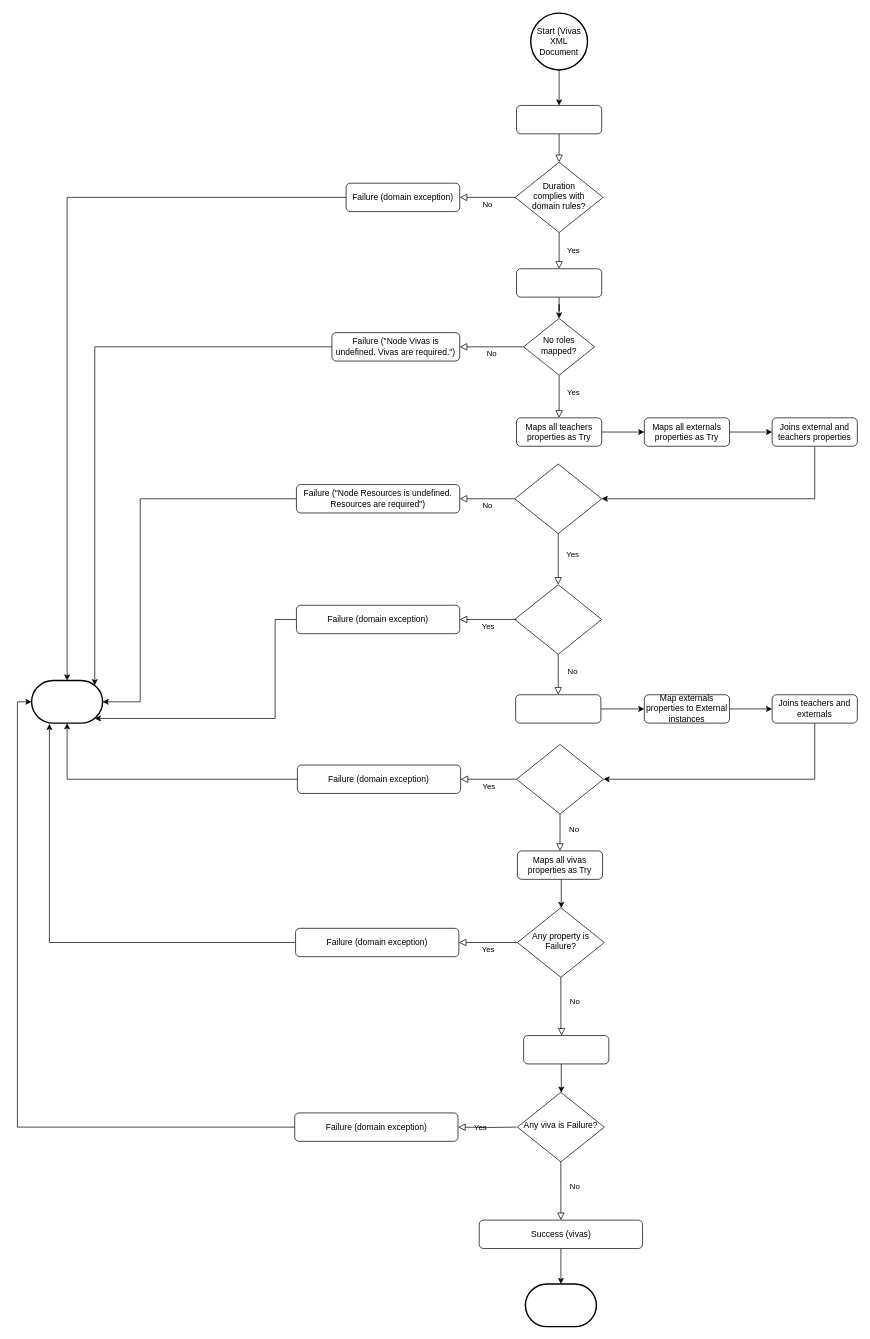
Some shapes in this 870 by 1339 pixel diagram are drawn without their labels. Here are the shapes that lost their labels. From the top down, the centre of each, then its label:
point (559, 119): Parses Vivas Duration
point (559, 282): Maps all vivas jury elements as Role instances
point (558, 498): No mapped properties?
point (558, 619): Any mapped property is Failure?
point (67, 701): End (Failure)
point (558, 708): Map teachers properties to Teacher instances
point (560, 779): Any resource is Failure?
point (566, 1049): Maps viva properties as Viva instances
point (560, 1305): End (Success)
